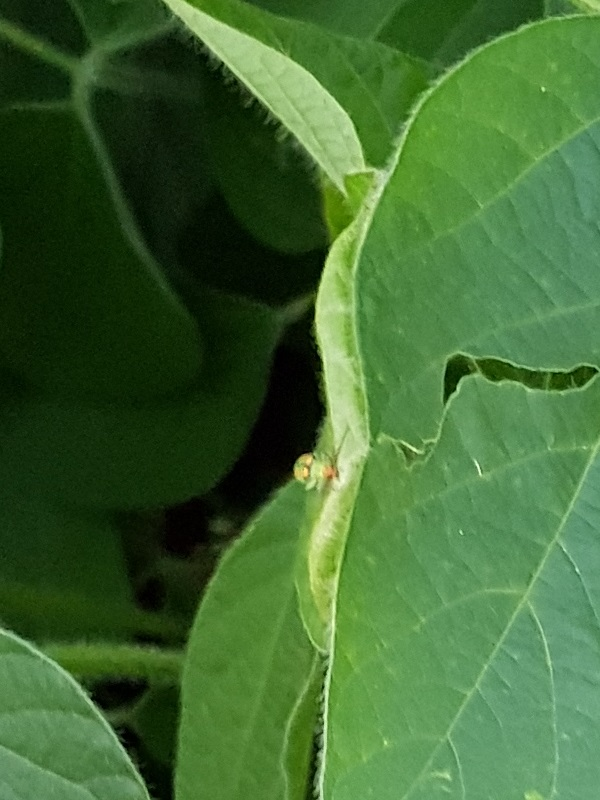Diabrotica_speciosa: (263, 409, 372, 522)
